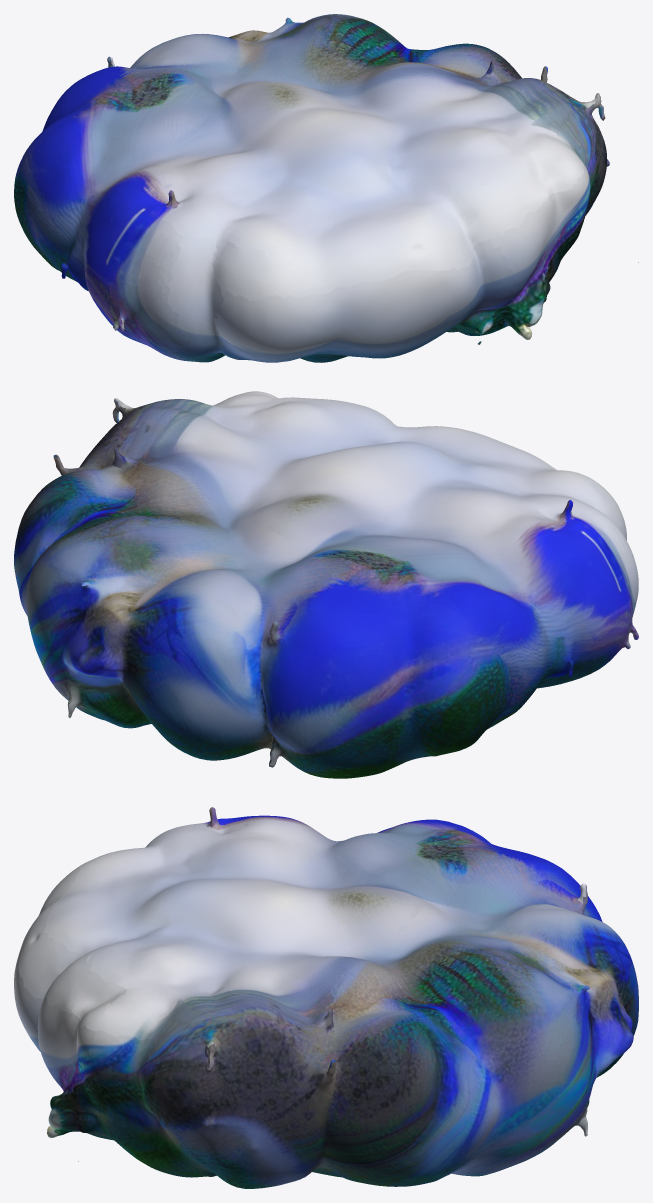
The model's file is cloud.glb.
The picture shows the model from 3 angles, top to bottom: view 1: azimuth 30°, elevation 25°; view 2: azimuth 150°, elevation 25°; view 3: azimuth 270°, elevation 25°; orthographic projection. The views are drawn at different scales.
Visible parts, largest first — view 1: tmp9b8gybms.ply; view 2: tmp9b8gybms.ply; view 3: tmp9b8gybms.ply.
Part boxes in pixels (x1,y1,x2,y2): tmp9b8gybms.ply: (14, 14, 638, 362); tmp9b8gybms.ply: (14, 391, 638, 778); tmp9b8gybms.ply: (14, 807, 638, 1188).
Bounding box in the file's own units: 1.99 × 0.7522 × 1.97.
Materials: 1 (1 with a texture image).
